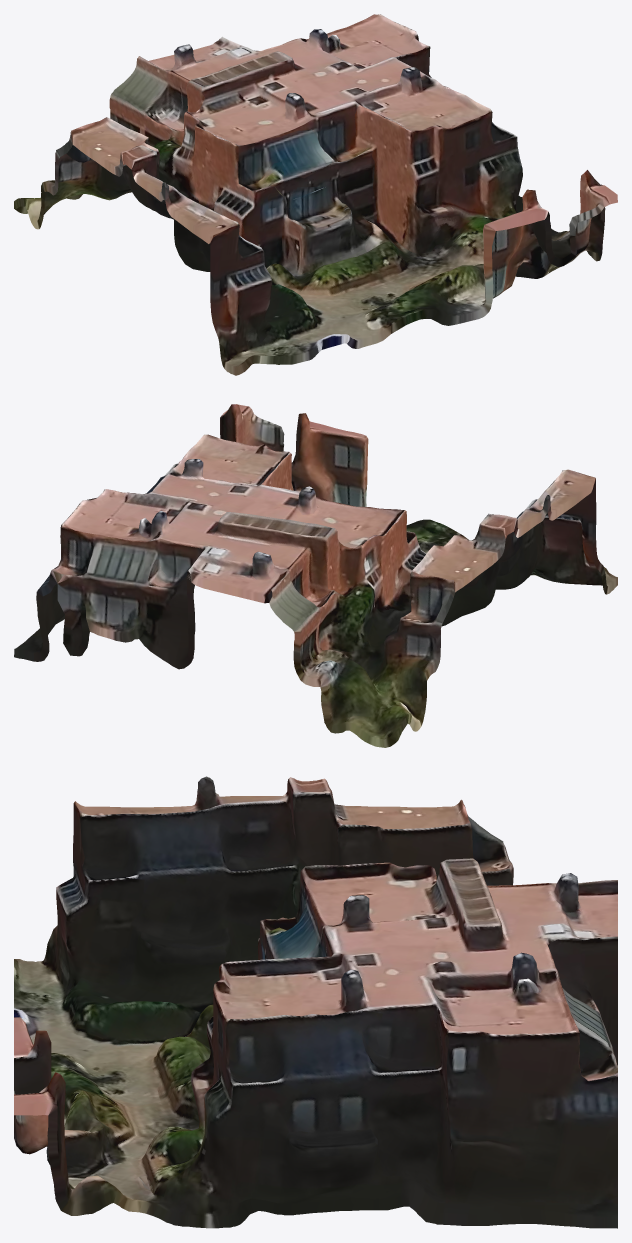
The model's file is z20-167778-405212-h0-yup-uvflip-v3-world.glb.
The picture shows the model from 3 angles, top to bottom: view 1: azimuth 30°, elevation 25°; view 2: azimuth 150°, elevation 25°; view 3: azimuth 270°, elevation 25°; orthographic projection. The views are drawn at different scales.
Size of the model in its own units: 30.2 by 11.16 by 30.32.
1 material, 1 textured.
